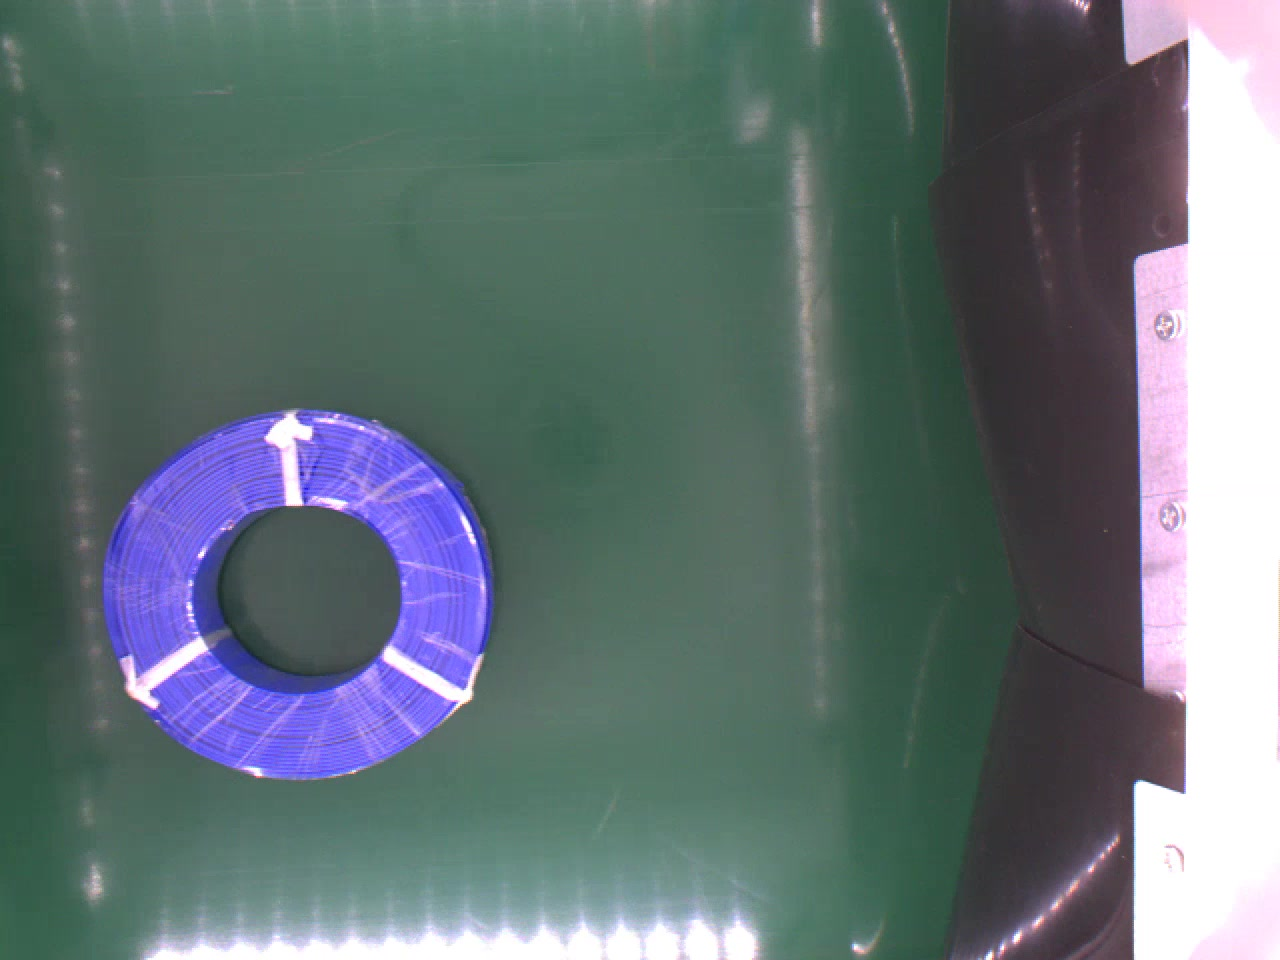blue: (96, 408, 495, 781)
